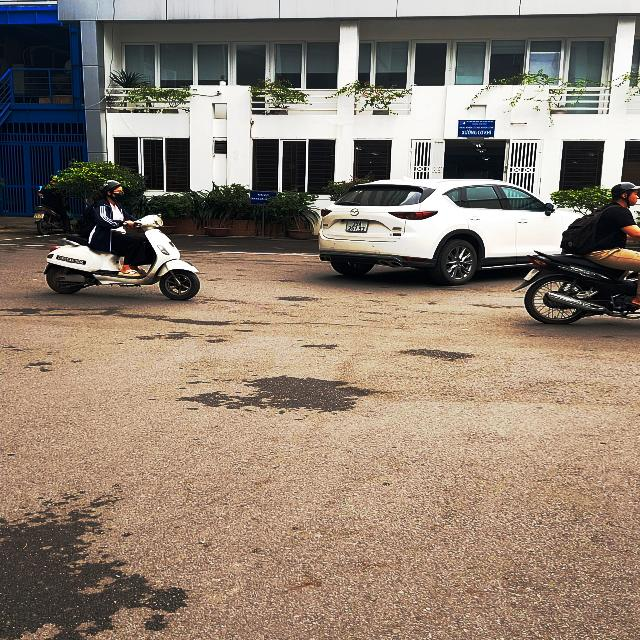license_plate: (346, 220, 370, 233)
